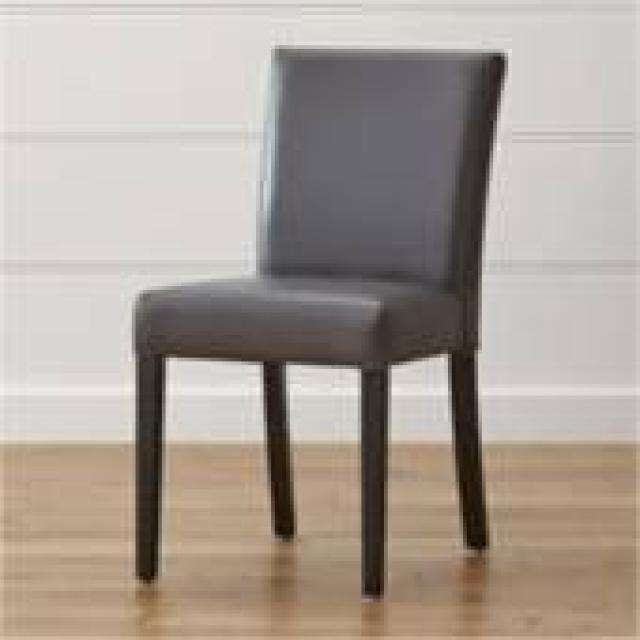bottle: (133, 46, 508, 599)
